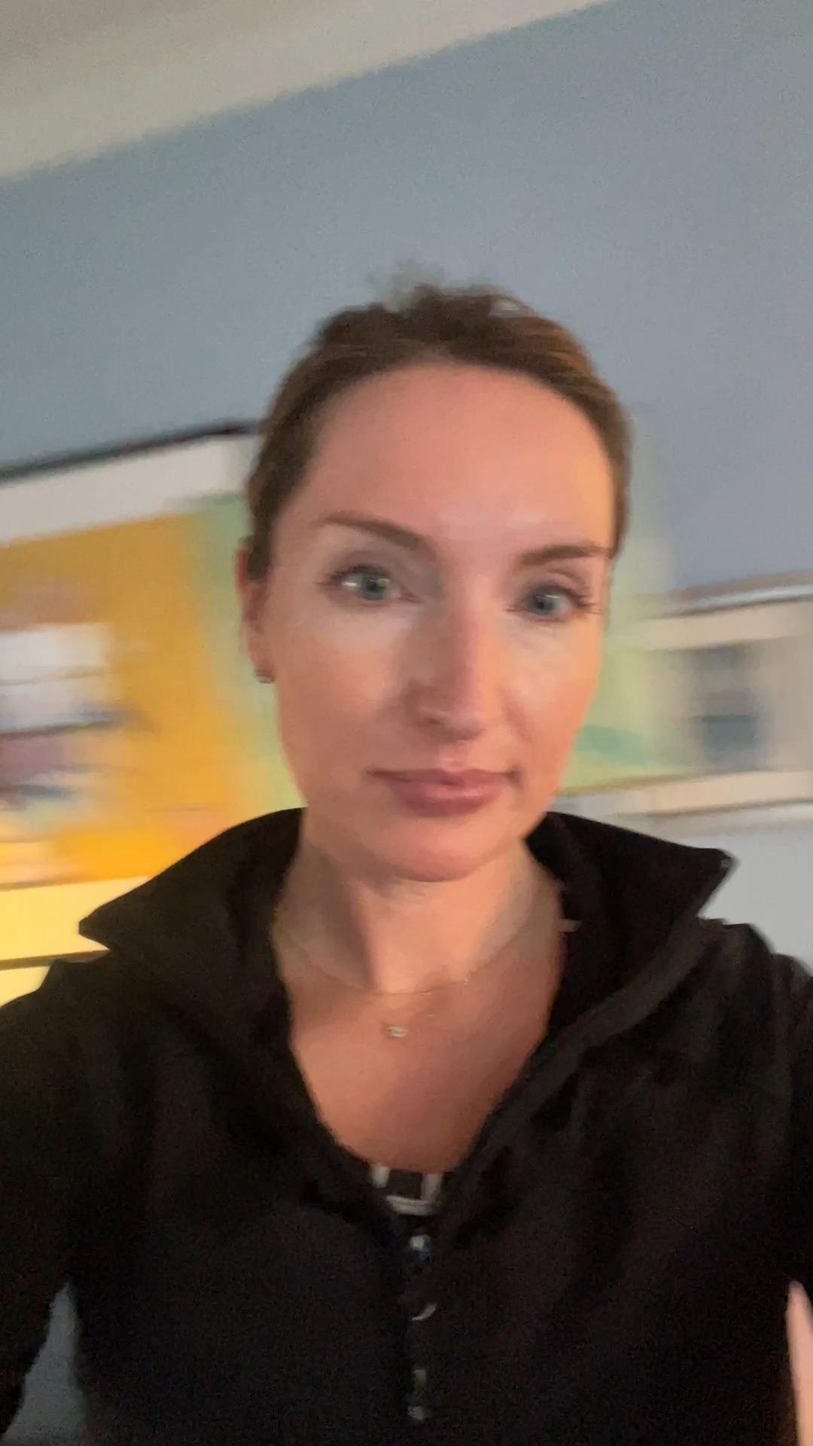NO-Hardhat: (238, 346, 625, 941), (265, 286, 629, 471)
NO-Safety Vest: (29, 909, 803, 1446)
Person: (0, 294, 813, 1442)
